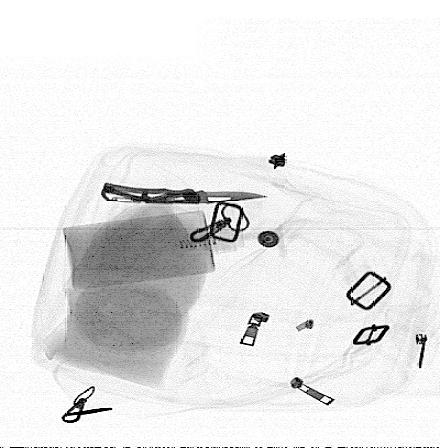Knife: (100, 182, 269, 205)
